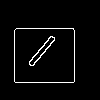I: (25, 25, 65, 70)
